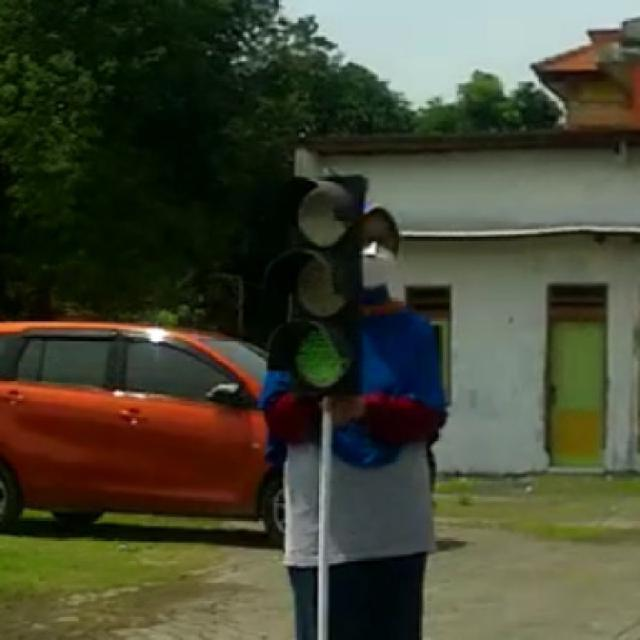green_light: (272, 164, 372, 404)
